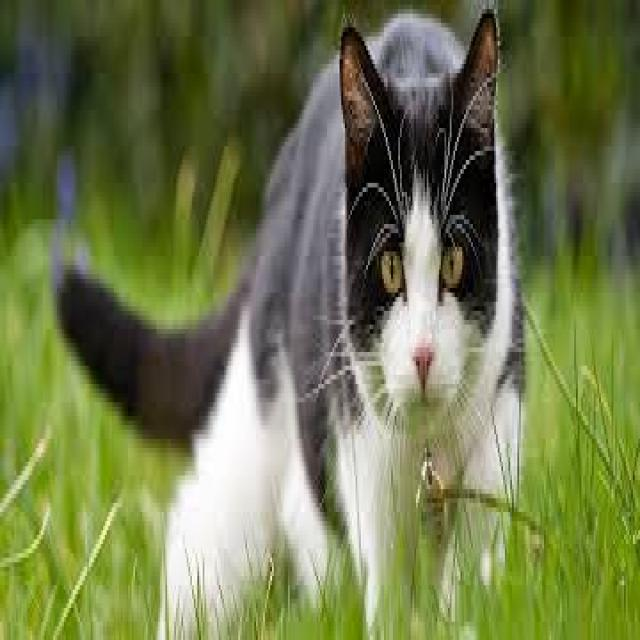cat: (49, 6, 576, 640)
